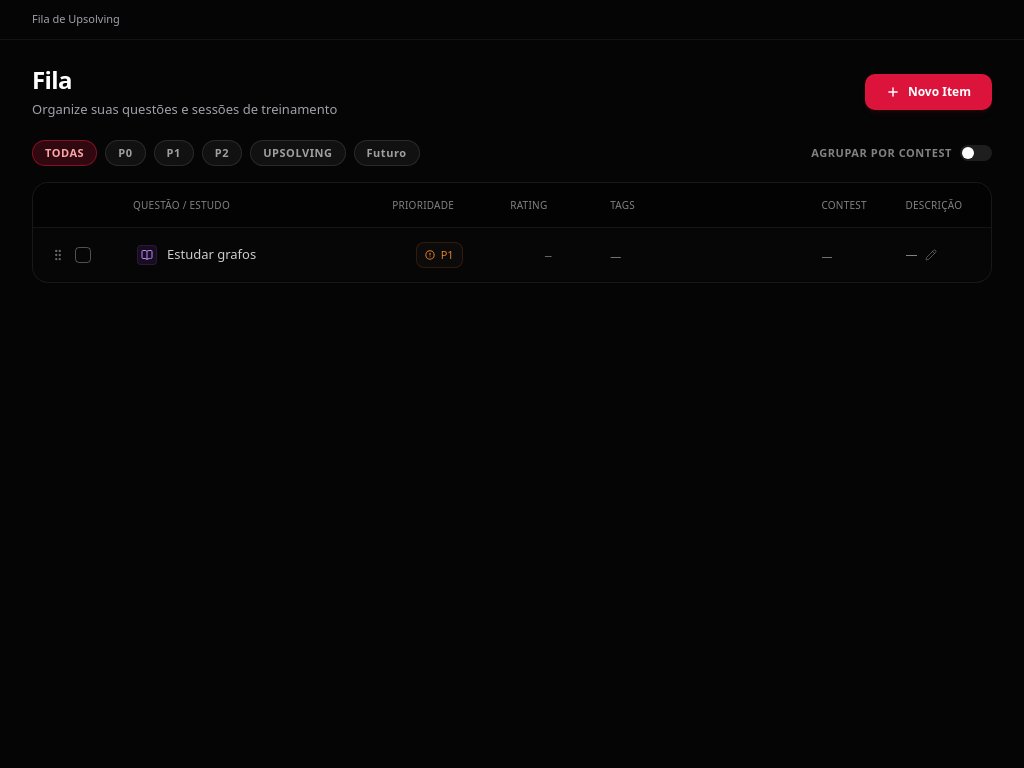
Queue Page › distingue filtro sem resultados da fila inteira e permite limpar o filtro
The width and height of the screenshot is (1024, 768).
Expected: the text "Estudar grafos" is shown, [167,246,256,264]
Click the button "P2".
click(222, 153)  # box [202,140,242,166]
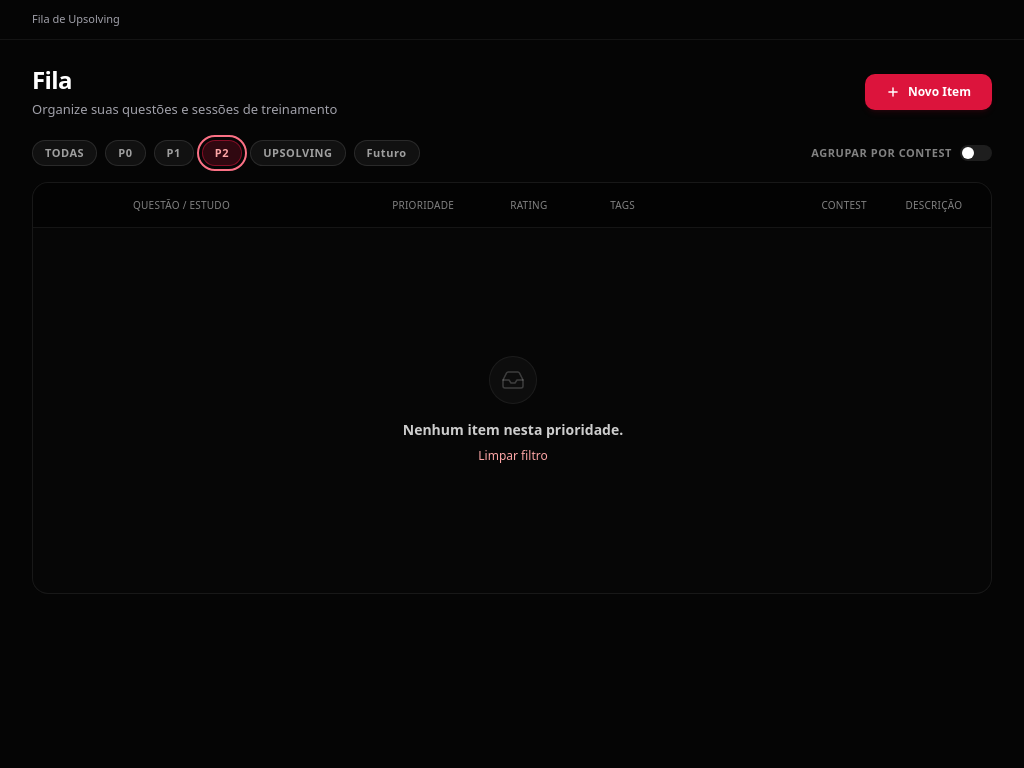
Result: the text "Nenhum item nesta prioridade." is shown at [403,420,623,440]
Click the button "Limpar filtro".
click(513, 456)  # box [478,448,548,464]
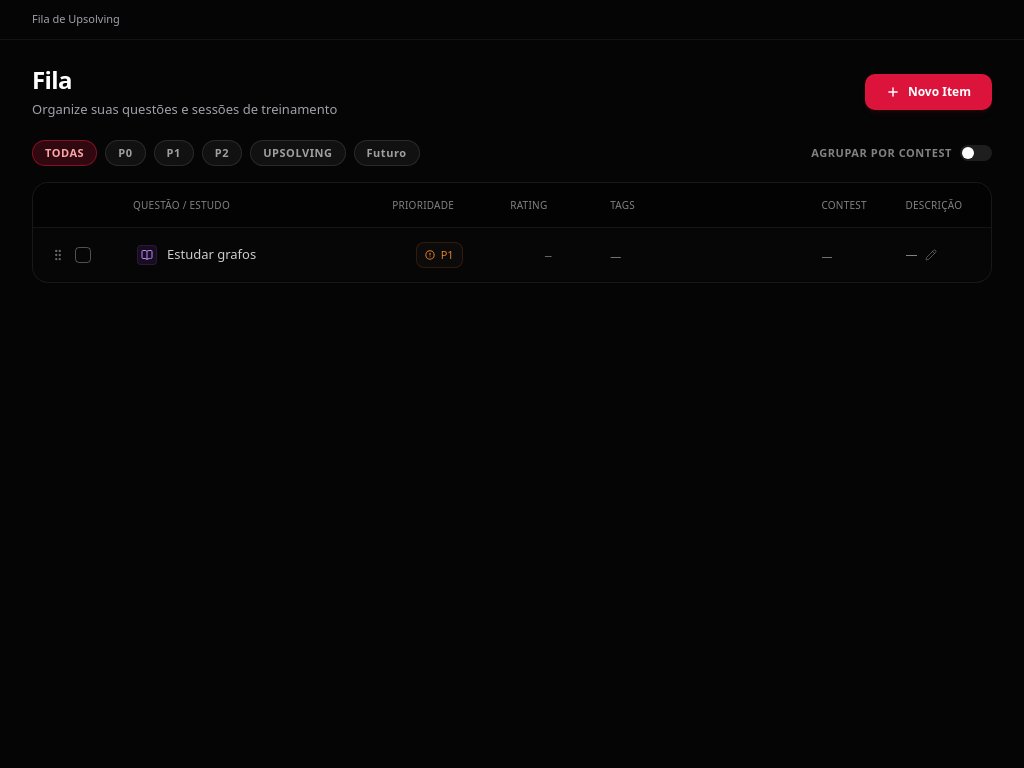
Result: the text "Estudar grafos" is shown at [167,246,256,264]
